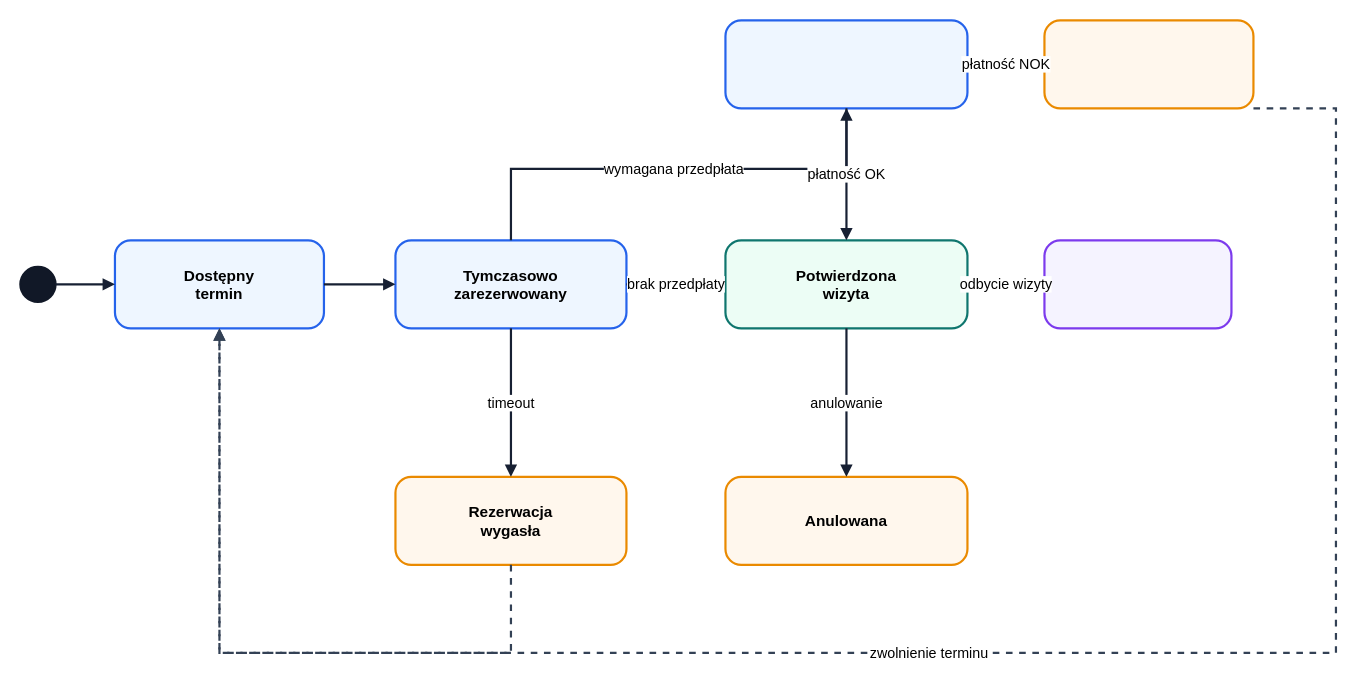
Image size: 1364x681. Some labels were removed from this diagram. The box of each missing label's shape, as (x1, y1, x2, y2) in pixels:
Oczekuje na płatność: (724, 19, 968, 109)
Płatność nieudana: (1043, 19, 1254, 109)
Zrealizowana: (1043, 239, 1232, 329)
